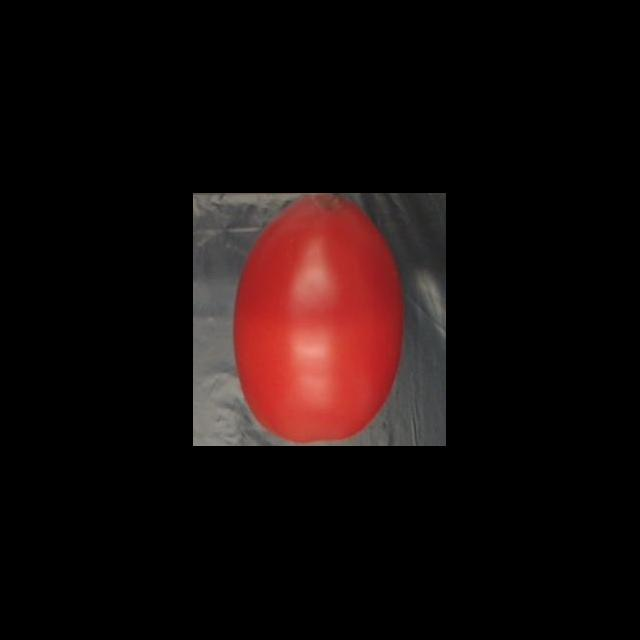tomato: (228, 194, 410, 446)
